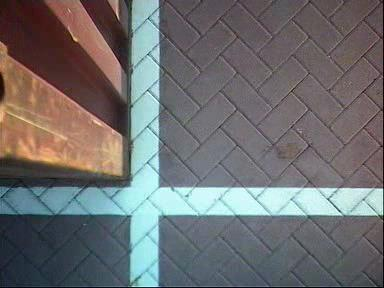groundmarker_2: (185, 150, 221, 215)
